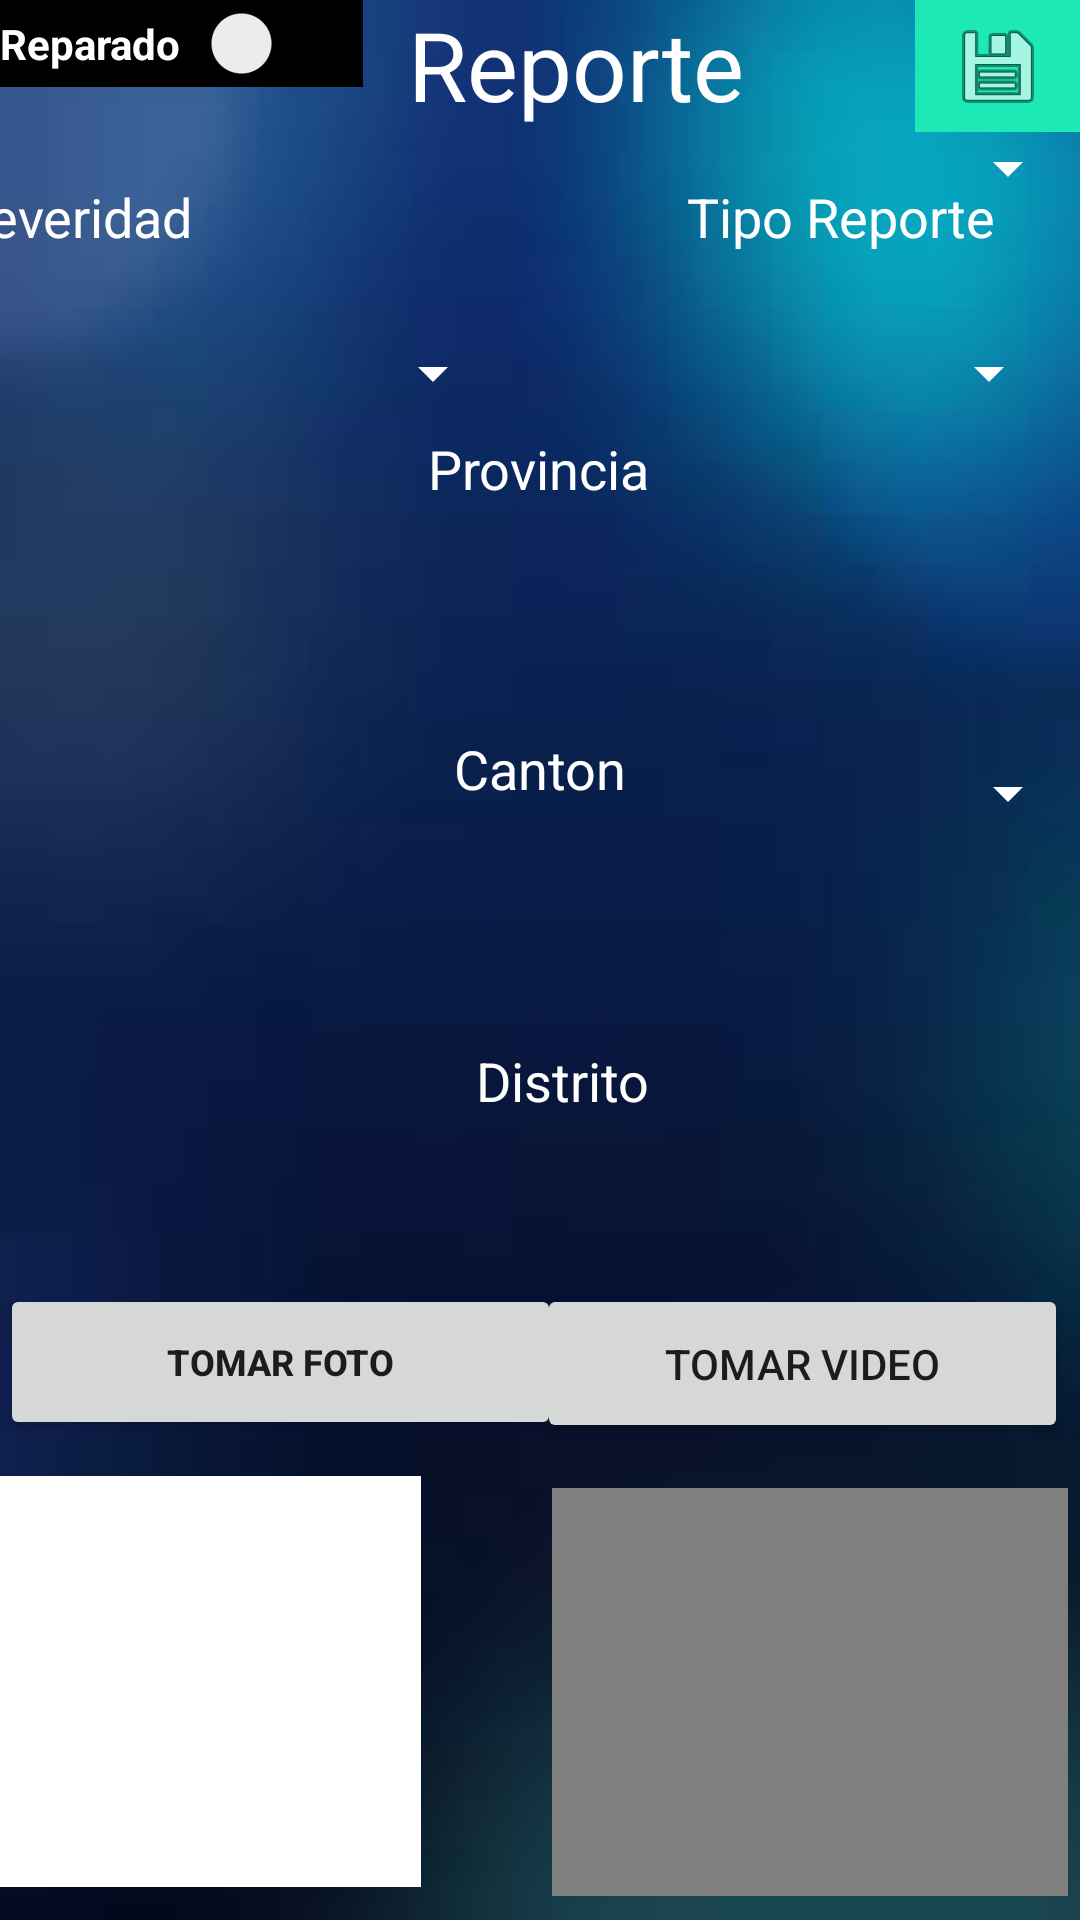

Icon click points for this 1080x1920 phone screenshot, format [x,y]:
save: [997,66]
